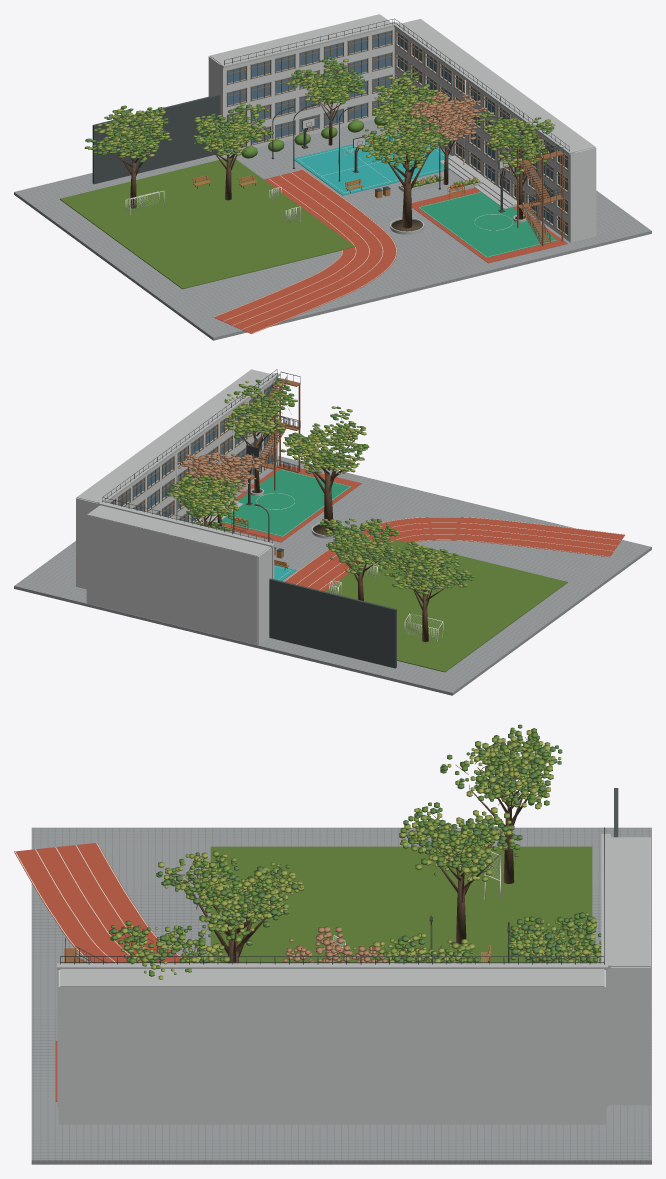
Rendered from campus-courtyard.glb.
The picture shows the model from 3 angles, top to bottom: view 1: azimuth 30°, elevation 25°; view 2: azimuth 150°, elevation 25°; view 3: azimuth 270°, elevation 25°; orthographic projection. The views are drawn at different scales.
Parts seen in each view (by area): view 1: SITE-PAVERS, LAWN-L, BLD-B-SHELL, TRACK-ARC, BLD-A-SHELL, BACKDROP-WEST-FRAGMENT, COURT-E-IN, TREE-01, COURT-NE, TREE-06, TREE-02, TREE-05 (+8 smaller); view 2: SITE-PAVERS, BLD-A-SHELL, LAWN-L, BLD-B-SHELL, BACKDROP-WEST-FRAGMENT, TRACK-ARC, COURT-E-IN, TREE-01, TREE-06, TREE-02, TREE-05, TREE-03 (+4 smaller); view 3: BLD-B-SHELL, SITE-PAVERS, LAWN-L, BLD-A-SHELL, TRACK-ARC, TREE-01, TREE-06, TREE-02, TREE-07, TREE-05, TREE-03, TREE-04 (+1 smaller).
Boxes of the visible parts, x1,y1,x2,y2 form: SITE-PAVERS: [14, 119, 651, 340]; LAWN-L: [59, 157, 355, 289]; BLD-B-SHELL: [394, 19, 596, 242]; TRACK-ARC: [213, 169, 397, 333]; BLD-A-SHELL: [208, 14, 396, 155]; BACKDROP-WEST-FRAGMENT: [92, 94, 220, 184]; COURT-E-IN: [418, 192, 557, 257]; TREE-01: [358, 112, 453, 228]; COURT-NE: [294, 134, 449, 195]; TREE-06: [84, 105, 172, 208]; TREE-02: [192, 103, 273, 200]; TREE-05: [476, 111, 555, 219]; SITE-PAVERS: [14, 456, 651, 695]; BLD-A-SHELL: [86, 502, 275, 645]; LAWN-L: [324, 540, 567, 672]; BLD-B-SHELL: [76, 369, 280, 589]; BACKDROP-WEST-FRAGMENT: [269, 578, 396, 668]; TRACK-ARC: [284, 517, 624, 591]; COURT-E-IN: [221, 469, 351, 536]; TREE-01: [280, 406, 369, 531]; TREE-06: [377, 541, 474, 642]; TREE-02: [318, 518, 399, 600]; TREE-05: [223, 378, 297, 493]; TREE-03: [165, 474, 243, 526]; BLD-B-SHELL: [57, 963, 607, 1124]; SITE-PAVERS: [31, 827, 651, 1164]; LAWN-L: [210, 846, 592, 963]; BLD-A-SHELL: [601, 834, 650, 1105]; TRACK-ARC: [14, 843, 181, 963]; TREE-01: [156, 851, 303, 963]; TREE-06: [440, 724, 562, 883]; TREE-02: [399, 802, 522, 944]; TREE-07: [507, 912, 601, 963]; TREE-05: [109, 913, 235, 979]; TREE-03: [371, 933, 478, 963]; TREE-04: [283, 926, 388, 963].
Size of the model in its own units: 66 by 15.62 by 53.5.
25 materials, 2 textured.
